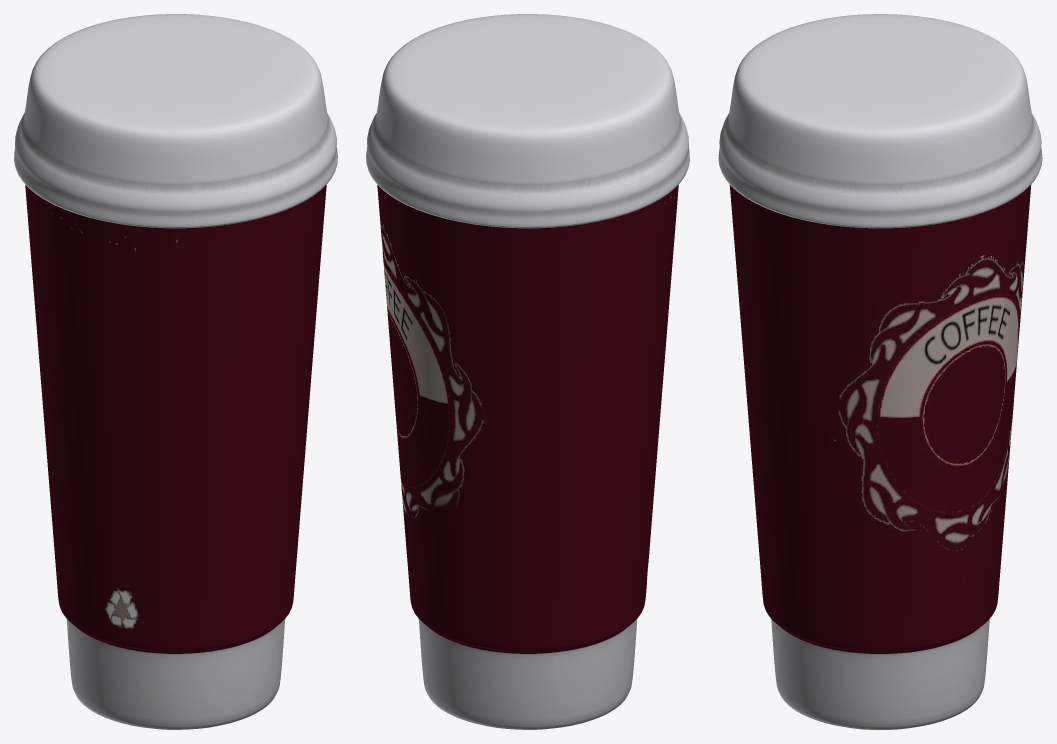
The model's file is costa_coffee_large.dae.
3 renders of one model, left to right at view 1: azimuth 30°, elevation 25°; view 2: azimuth 150°, elevation 25°; view 3: azimuth 270°, elevation 25°, orthographic.
Visible parts, largest first — view 1: 14039_To_go_coffee_cup_with_lid_v2_L3; view 2: 14039_To_go_coffee_cup_with_lid_v2_L3; view 3: 14039_To_go_coffee_cup_with_lid_v2_L3.
Boxes of the visible parts, x1,y1,x2,y2 form: 14039_To_go_coffee_cup_with_lid_v2_L3: (14,14,337,729); 14039_To_go_coffee_cup_with_lid_v2_L3: (366,14,689,729); 14039_To_go_coffee_cup_with_lid_v2_L3: (718,14,1042,729).
Bounding box in the file's own units: 7.59 × 7.59 × 16.01.
1 material, 1 textured.
